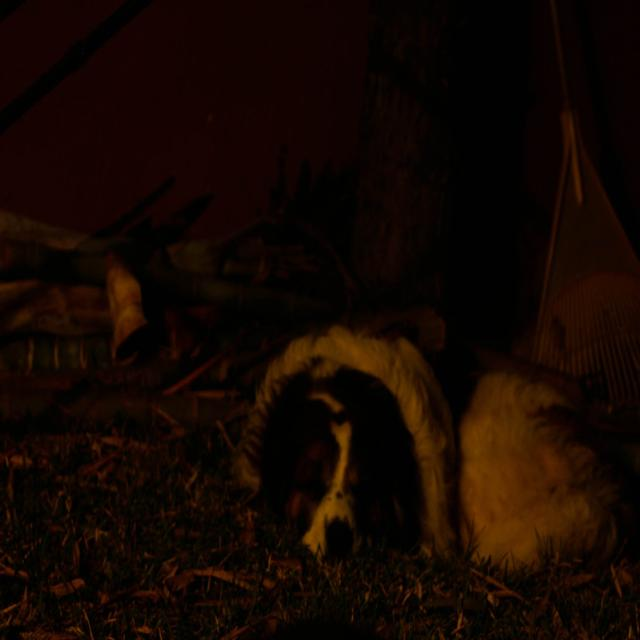Dog: (182, 280, 630, 614)
